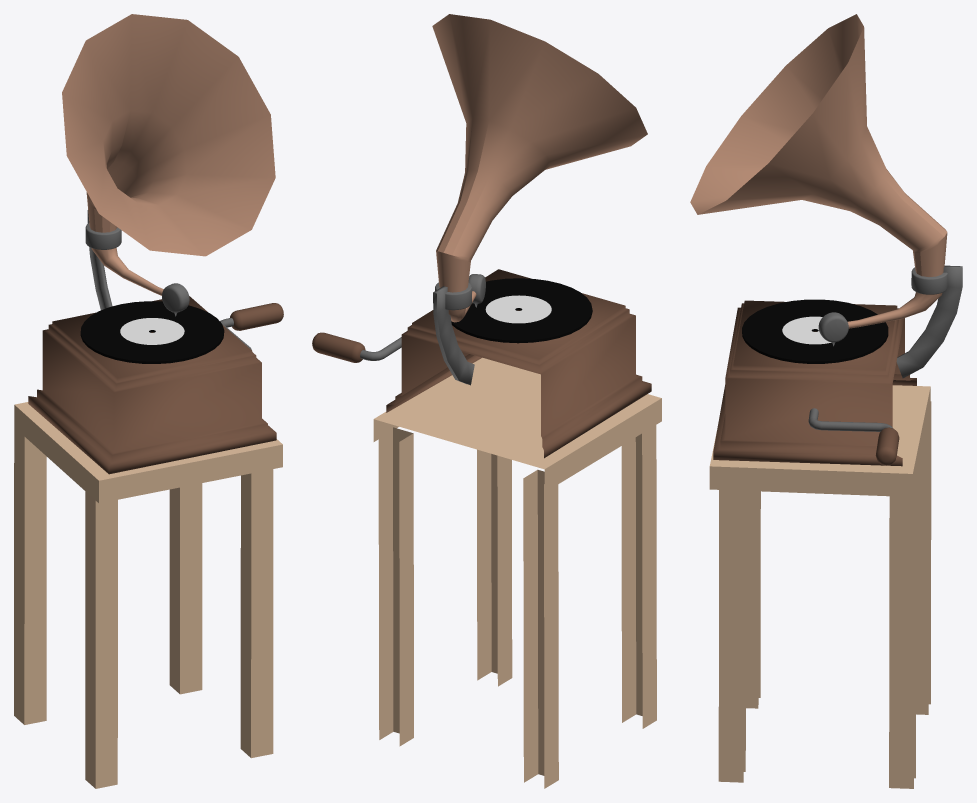
Rendered from Player.gltf.
3 views of the same model, side by side, from view 1: azimuth 30°, elevation 25°; view 2: azimuth 150°, elevation 25°; view 3: azimuth 270°, elevation 25° (orthographic). The views are drawn at different scales.
Parts seen in each view (by area): view 1: desk, Vert.003; view 2: desk, Vert.003; view 3: desk, Vert.003.
Part boxes in pixels (x1,y1,x2,y2): desk: (14,14,282,788); Vert.003: (220,303,283,349); desk: (373,14,661,788); Vert.003: (312,332,401,362); desk: (690,14,962,788); Vert.003: (808,408,899,465).
Size of the model in its own units: 1.51 by 3.85 by 1.32.
